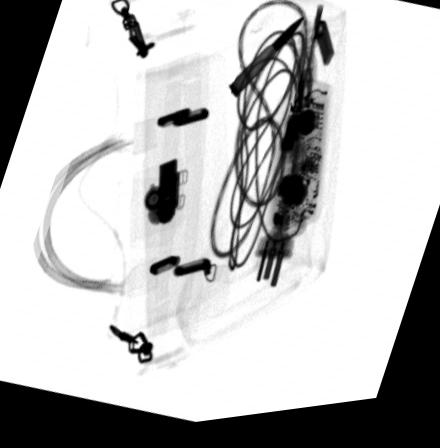Bullet: (226, 21, 308, 106)
